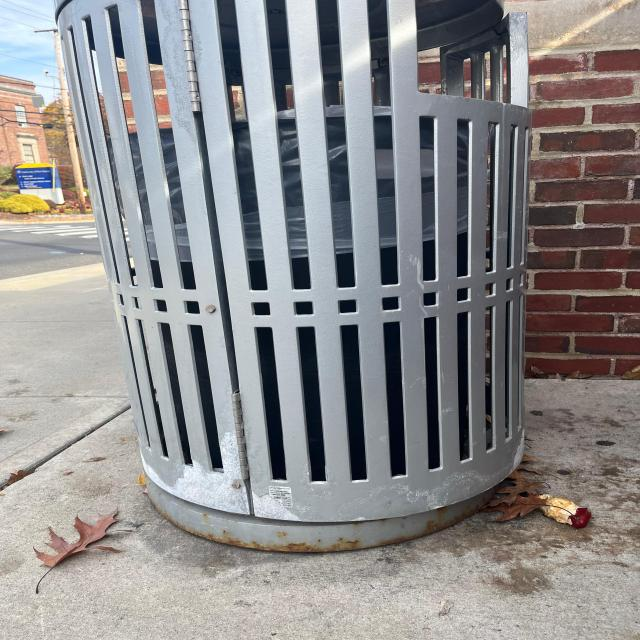Filiform Corrosion: (139, 477, 495, 553)
